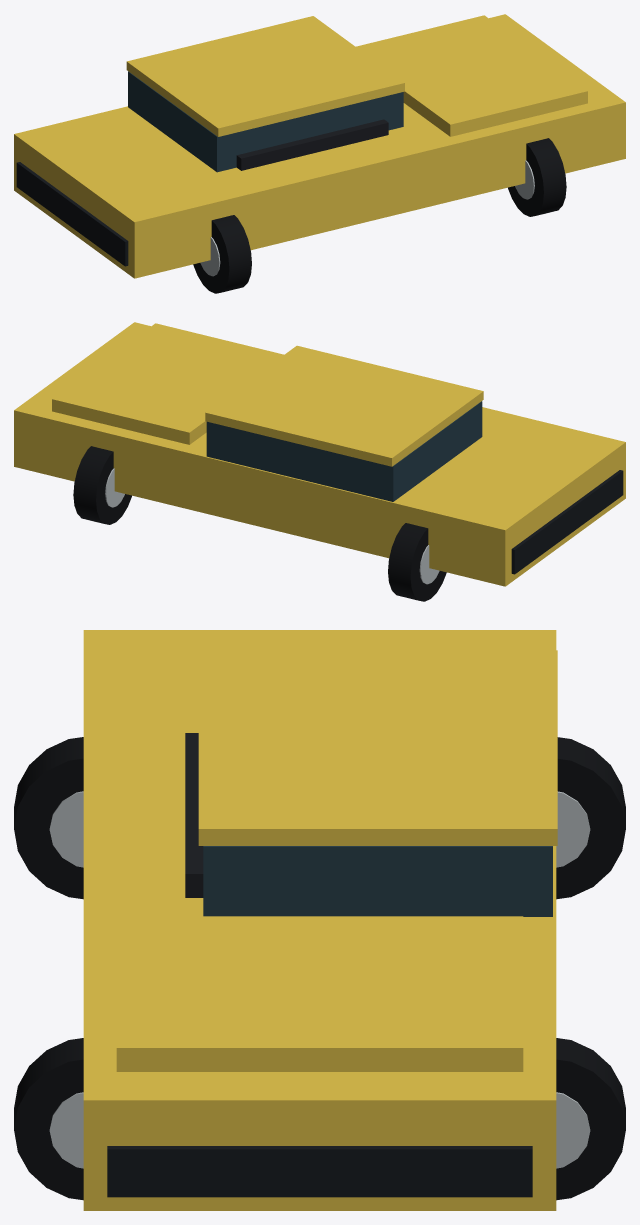
Rendered from lambo_aventador.glb.
The picture shows the model from 3 angles, top to bottom: view 1: azimuth 30°, elevation 25°; view 2: azimuth 150°, elevation 25°; view 3: azimuth 270°, elevation 25°; orthographic projection. The views are drawn at different scales.
Visible parts, largest first — view 1: body, roof, hood, cabin, rear_bumper, rear_right_wheel, front_right_wheel, interior; view 2: body, roof, hood, cabin, rear_bumper, rear_left_wheel, front_left_wheel; view 3: body, roof, hood, cabin, front_bumper, rear_right_wheel, front_left_wheel, front_right_wheel, rear_left_wheel, interior.
Part boxes in pixels (bbox=[...]): body: bbox=[14, 14, 625, 278]; roof: bbox=[126, 16, 404, 136]; hood: bbox=[356, 15, 587, 136]; cabin: bbox=[128, 71, 403, 172]; rear_bumper: bbox=[16, 162, 128, 266]; rear_right_wheel: bbox=[193, 215, 251, 293]; front_right_wheel: bbox=[508, 138, 566, 216]; interior: bbox=[236, 119, 388, 170]; body: bbox=[14, 322, 625, 586]; roof: bbox=[205, 345, 483, 466]; hood: bbox=[52, 323, 283, 444]; cabin: bbox=[206, 401, 482, 501]; rear_bumper: bbox=[511, 470, 623, 574]; rear_left_wheel: bbox=[388, 523, 446, 601]; front_left_wheel: bbox=[73, 446, 131, 524]; body: bbox=[83, 630, 556, 1210]; roof: bbox=[198, 650, 557, 845]; hood: bbox=[116, 916, 523, 1071]; cabin: bbox=[203, 846, 552, 916]; front_bumper: bbox=[107, 1146, 532, 1197]; rear_right_wheel: bbox=[14, 737, 83, 899]; front_left_wheel: bbox=[556, 1038, 625, 1200]; front_right_wheel: bbox=[14, 1038, 83, 1200]; rear_left_wheel: bbox=[556, 737, 625, 899]; interior: bbox=[185, 733, 203, 897].
Size of the model in its own units: 4.84 by 1.25 by 2.63.
